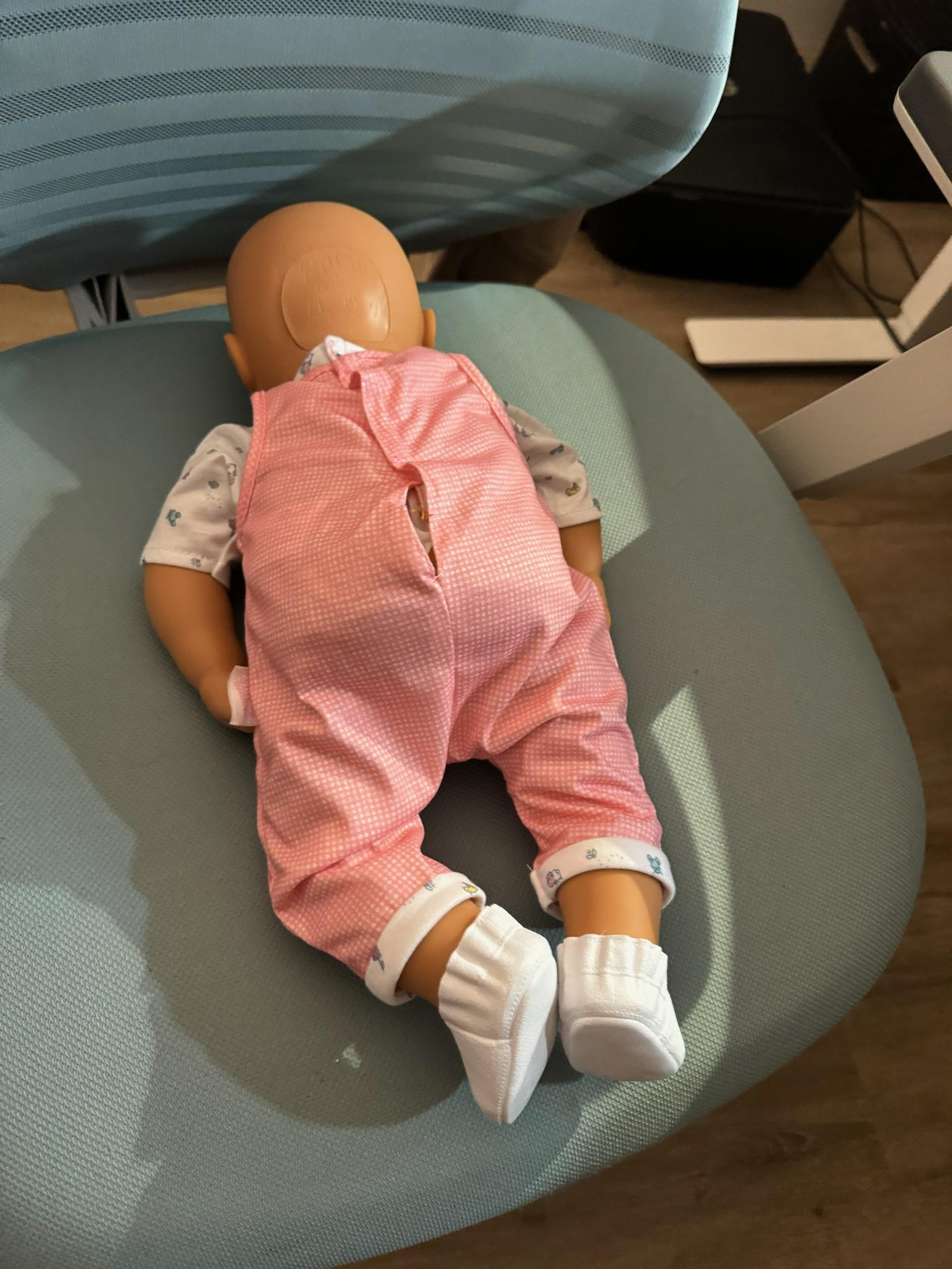baby: (126, 186, 744, 1097)
